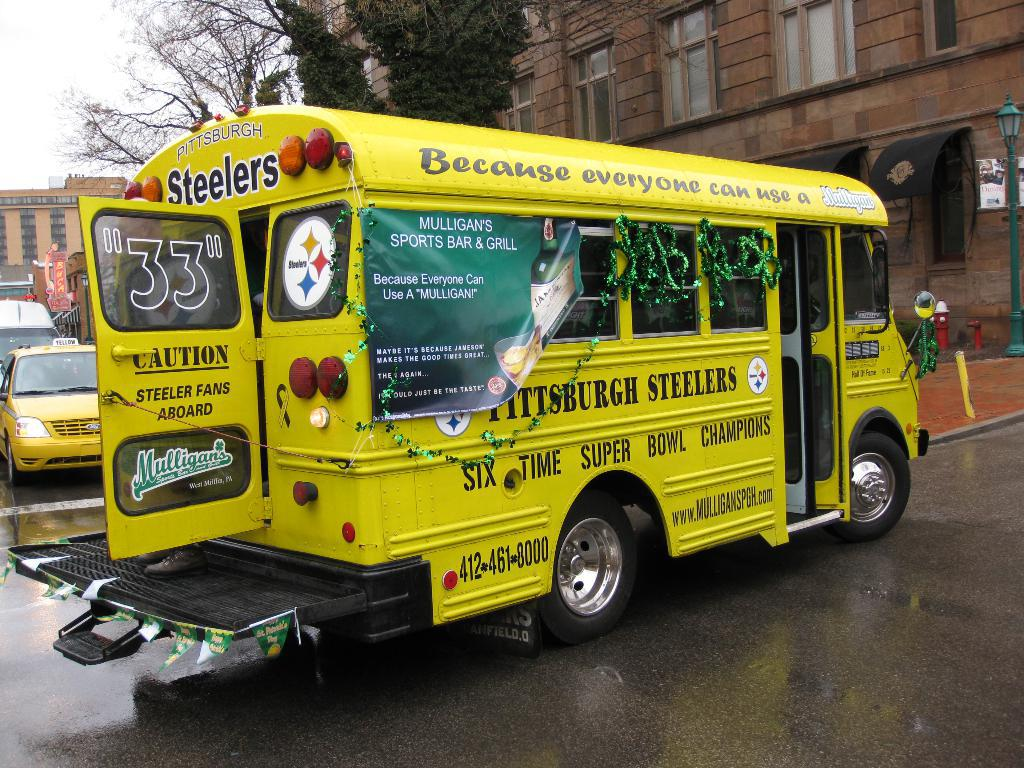taxi: (1, 339, 104, 483)
